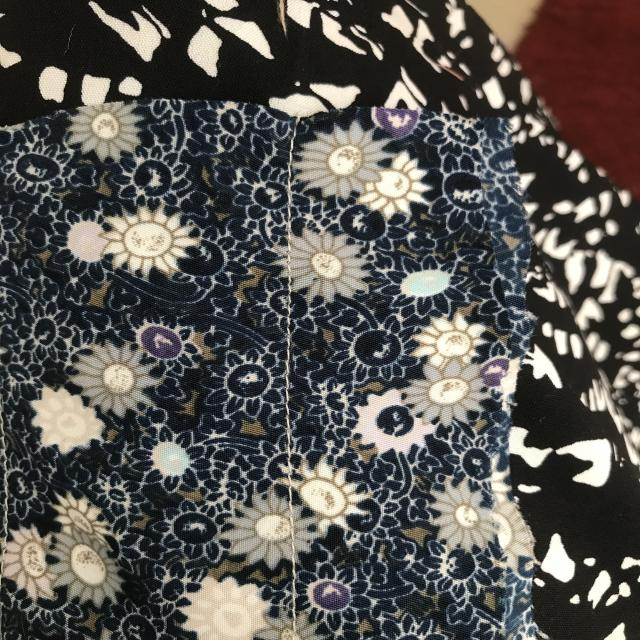good: (278, 306, 301, 461)
